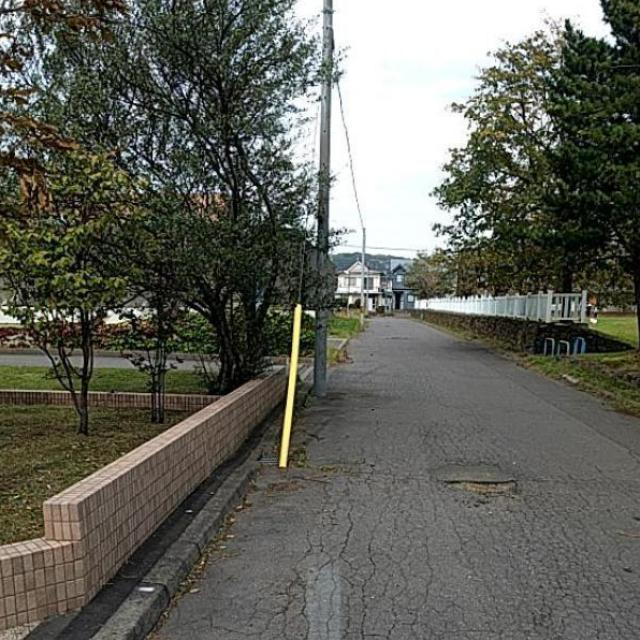Lubang: (434, 465, 520, 509)
Retak Buaya: (286, 477, 440, 640)
